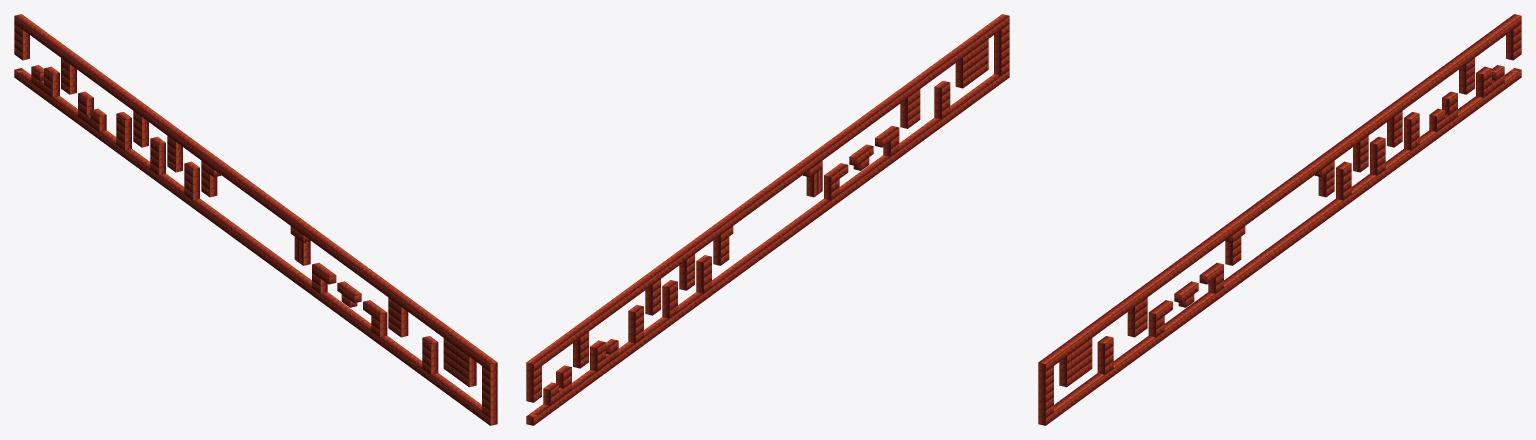
File: Level1_devided.fbx
The picture shows the model from 3 angles, left to right: view 1: azimuth 30°, elevation 25°; view 2: azimuth 150°, elevation 25°; view 3: azimuth 330°, elevation 25°; orthographic projection.
Parts seen in each view (by area): view 1: level1.002, level1.004, level1.010, level1.003, level1.012, level1.013, level1.007, level1.009, level1.005, level1.011, level1.006, level1.014 (+3 smaller); view 2: level1.002, level1.004, level1.010, level1.003, level1.012, level1.013, level1.009, level1.007, level1.005, level1.006, level1.011, level1.015 (+3 smaller); view 3: level1.002, level1.004, level1.010, level1.003, level1.012, level1.013, level1.007, level1.009, level1.005, level1.011, level1.006, level1.014 (+3 smaller).
Boxes of the visible parts, box(x1,y1,x2,y2) form: level1.002: box(443, 328, 497, 425); level1.004: box(363, 269, 408, 360); level1.010: box(167, 126, 208, 213); level1.003: box(401, 297, 450, 391); level1.012: box(116, 88, 148, 170); level1.013: box(78, 60, 122, 151); level1.007: box(269, 200, 310, 288); level1.009: box(201, 151, 242, 238); level1.005: box(329, 244, 369, 332); level1.011: box(141, 107, 173, 188); level1.006: box(303, 225, 336, 307); level1.014: box(52, 42, 84, 123); level1.002: box(955, 14, 1009, 111); level1.004: box(875, 79, 920, 170); level1.010: box(679, 225, 720, 313); level1.003: box(913, 48, 962, 142); level1.012: box(628, 269, 660, 350); level1.013: box(590, 288, 635, 378); level1.009: box(713, 200, 754, 288); level1.007: box(781, 151, 822, 238); level1.005: box(841, 107, 882, 195); level1.006: box(815, 132, 848, 213); level1.011: box(654, 250, 686, 332); level1.015: box(543, 334, 571, 412); level1.002: box(1038, 328, 1092, 425); level1.004: box(1127, 269, 1172, 360); level1.010: box(1327, 126, 1368, 213); level1.003: box(1085, 297, 1134, 391); level1.012: box(1387, 88, 1419, 170); level1.013: box(1413, 60, 1457, 151); level1.007: box(1225, 200, 1266, 288); level1.009: box(1293, 151, 1334, 238); level1.005: box(1166, 244, 1206, 332); level1.011: box(1362, 107, 1394, 188); level1.006: box(1199, 225, 1232, 307); level1.014: box(1451, 42, 1483, 123).
Size of the model in its own units: 200 by 1600 by 22400.
1 material, 1 textured.
